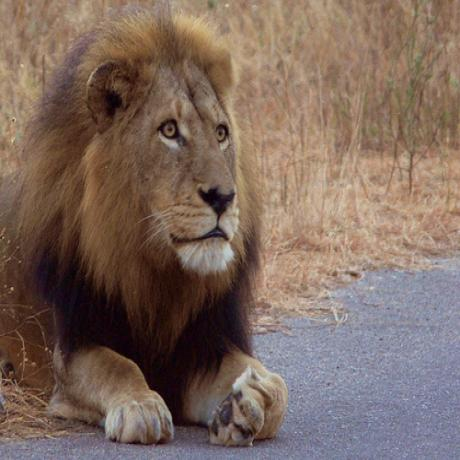Lion: (0, 6, 290, 446)
